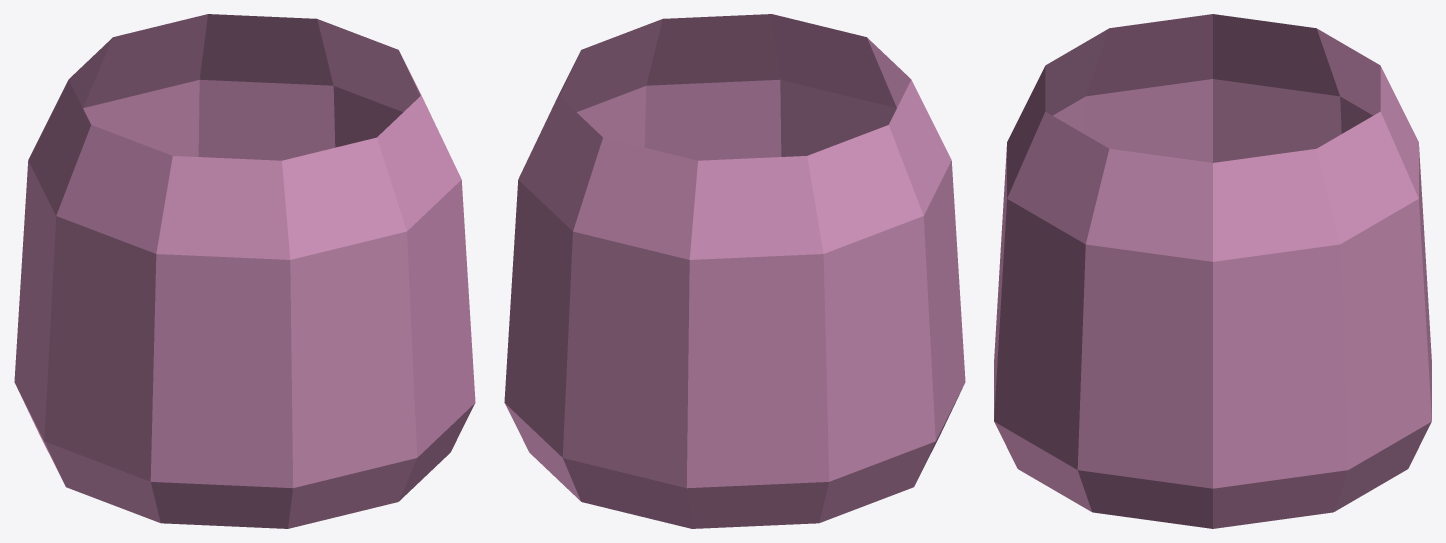
Rendered from Messkolben_inhalt.FBX.
3 renders of one model, left to right at view 1: azimuth 30°, elevation 25°; view 2: azimuth 150°, elevation 25°; view 3: azimuth 270°, elevation 25°, orthographic.
Parts seen in each view (by area): view 1: Messkolben füllung; view 2: Messkolben füllung; view 3: Messkolben füllung.
Part boxes in pixels (x1,y1,x2,y2): Messkolben füllung: (14,14,475,528); Messkolben füllung: (504,14,965,528); Messkolben füllung: (994,14,1431,528).
Size of the model in its own units: 35.66 by 32.02 by 33.91.
